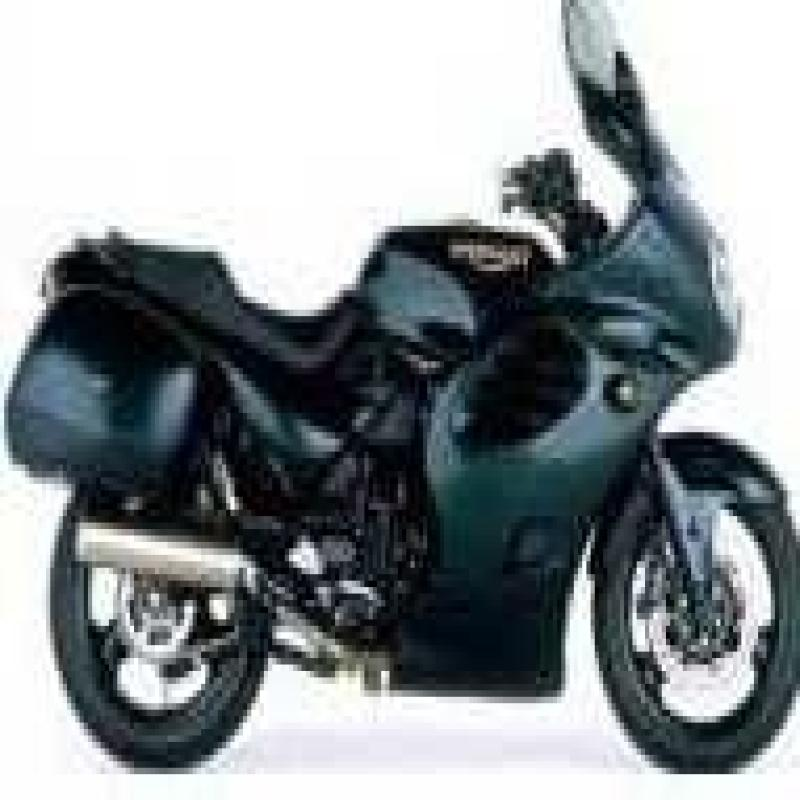bike: (18, 8, 800, 788)
